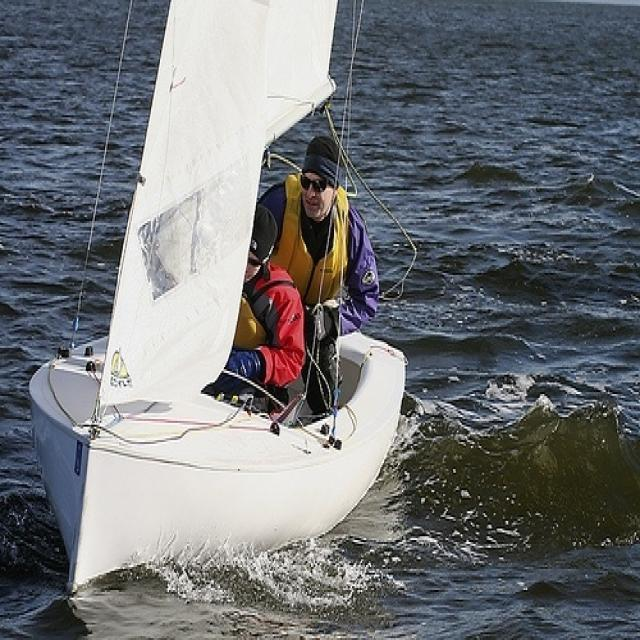Ship: (38, 4, 420, 606)
